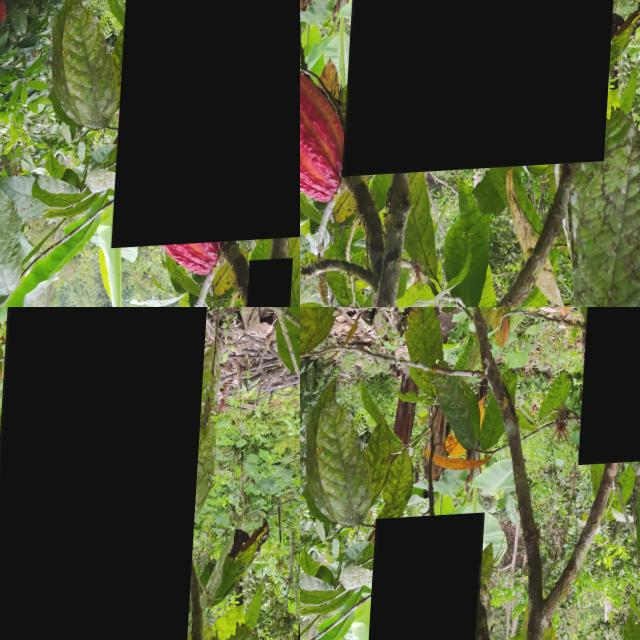Fitoftora: (117, 0, 300, 250)
Sana: (0, 307, 212, 640), (347, 0, 632, 180), (372, 516, 489, 640), (582, 307, 640, 470), (272, 82, 300, 229), (250, 263, 299, 307)
